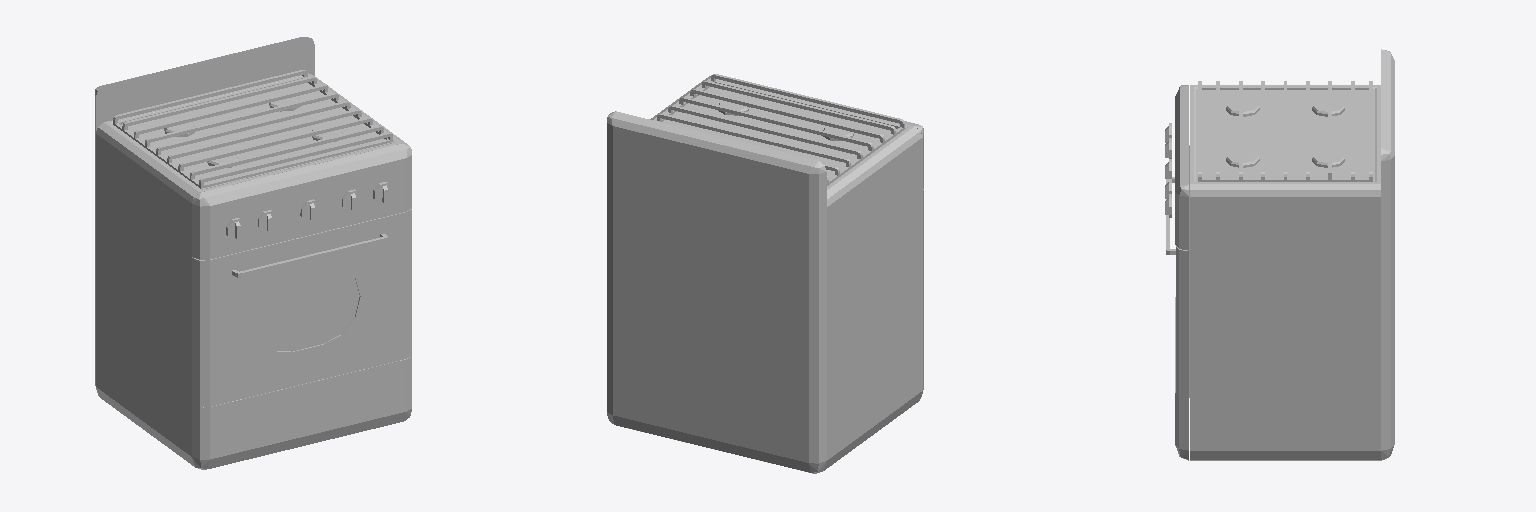
Rendered from range.obj.
3 views of the same model, side by side, from view 1: azimuth 30°, elevation 25°; view 2: azimuth 150°, elevation 25°; view 3: azimuth 270°, elevation 25° (orthographic).
Parts seen in each view (by area): view 1: Cube.097_Cube.125, Cube.098_Cube.126; view 2: Cube.097_Cube.125; view 3: Cube.097_Cube.125, Cube.098_Cube.126.
Boxes of the visible parts, x1=… form: Cube.097_Cube.125: x1=95, y1=37, x2=411, y2=469; Cube.098_Cube.126: x1=192, y1=209, x2=411, y2=407; Cube.097_Cube.125: x1=607, y1=74, x2=923, y2=473; Cube.097_Cube.125: x1=1165, y1=49, x2=1394, y2=460; Cube.098_Cube.126: x1=1166, y1=145, x2=1189, y2=397.
Size of the model in its own units: 0.1172 by 0.1609 by 0.1063.